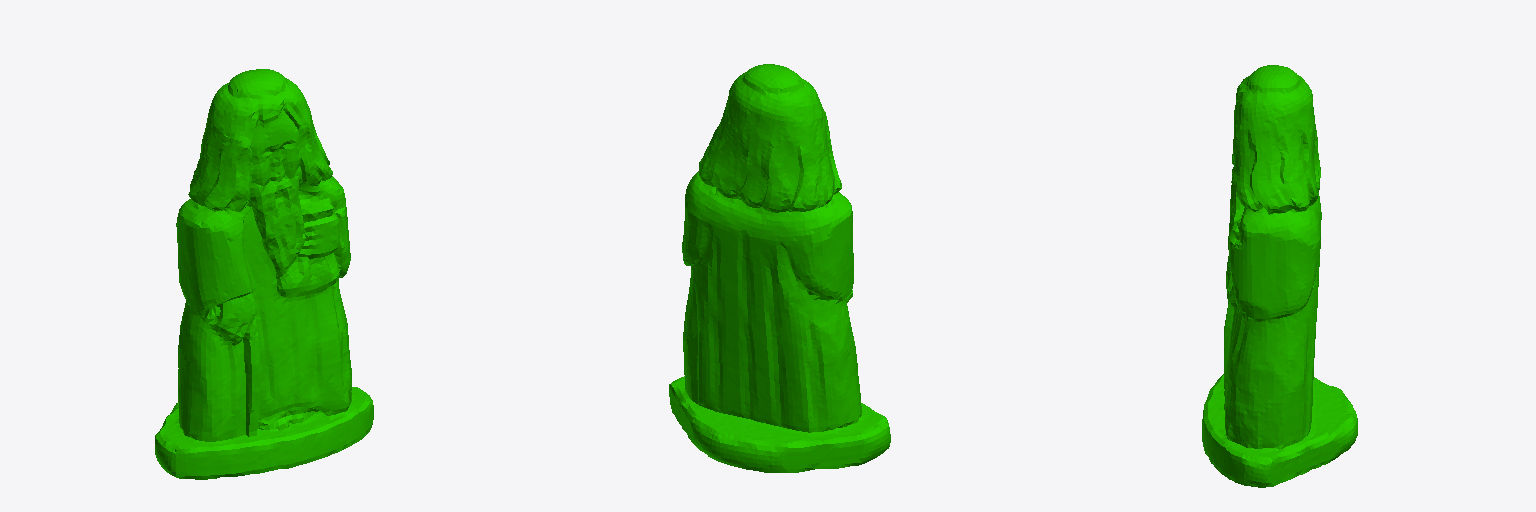
Rendered from Hojda7.obj.
3 views of the same model, side by side, from view 1: azimuth 30°, elevation 25°; view 2: azimuth 150°, elevation 25°; view 3: azimuth 270°, elevation 25° (orthographic).
Parts seen in each view (by area): view 1: Hojda7_lowpoly; view 2: Hojda7_lowpoly; view 3: Hojda7_lowpoly.
Part boxes in pixels (left/top/right/bottom): Hojda7_lowpoly: left=155, top=69, right=373, bottom=479; Hojda7_lowpoly: left=669, top=64, right=890, bottom=472; Hojda7_lowpoly: left=1202, top=65, right=1357, bottom=487.
Size of the model in its own units: 3.02 by 5.04 by 1.94.